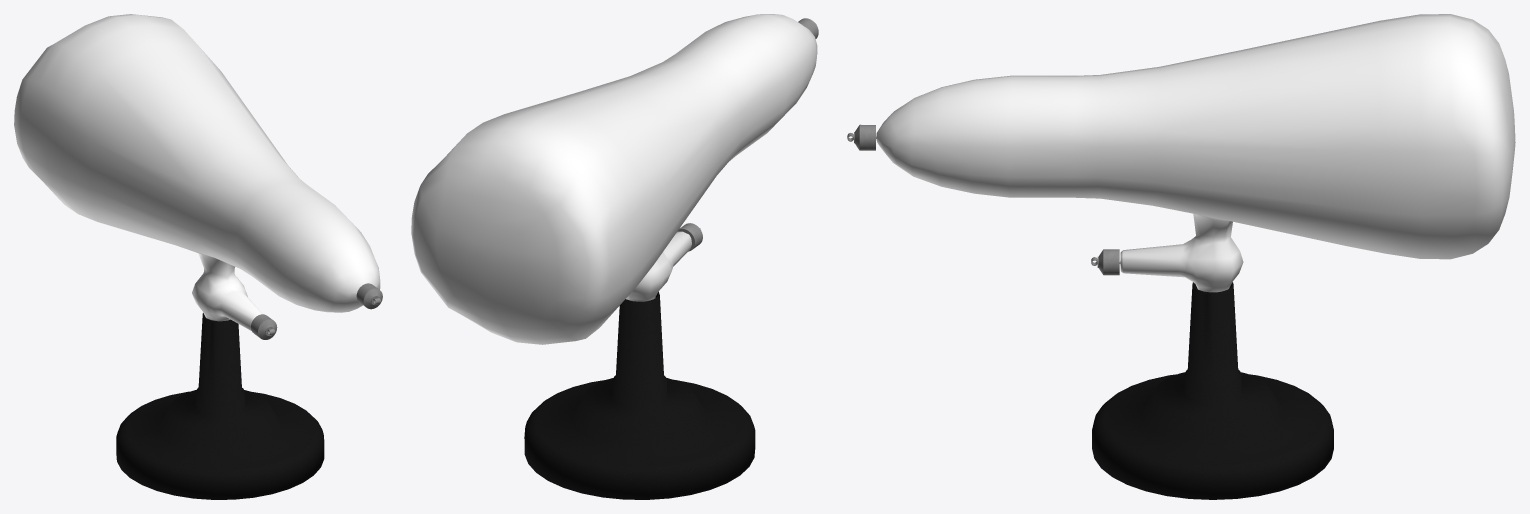
File: Crookes_tube_Cross.fbx
3 views of the same model, side by side, from view 1: azimuth 30°, elevation 25°; view 2: azimuth 150°, elevation 25°; view 3: azimuth 270°, elevation 25° (orthographic). The views are drawn at different scales.
Visible parts, largest first — view 1: CrookesTube, CrookesTubeSupporter, LinkUpper, LinkLower; view 2: CrookesTube, CrookesTubeSupporter; view 3: CrookesTube, CrookesTubeSupporter.
Part boxes in pixels (x1,y1,x2,y2): CrookesTube: [14, 14, 380, 330]; CrookesTubeSupporter: [116, 313, 324, 499]; LinkUpper: [356, 283, 382, 309]; LinkLower: [251, 314, 277, 339]; CrookesTube: [411, 14, 817, 344]; CrookesTubeSupporter: [524, 291, 755, 499]; CrookesTube: [876, 14, 1515, 292]; CrookesTubeSupporter: [1092, 282, 1333, 499].
Size of the model in its own units: 19.94 by 38.42 by 55.02.
